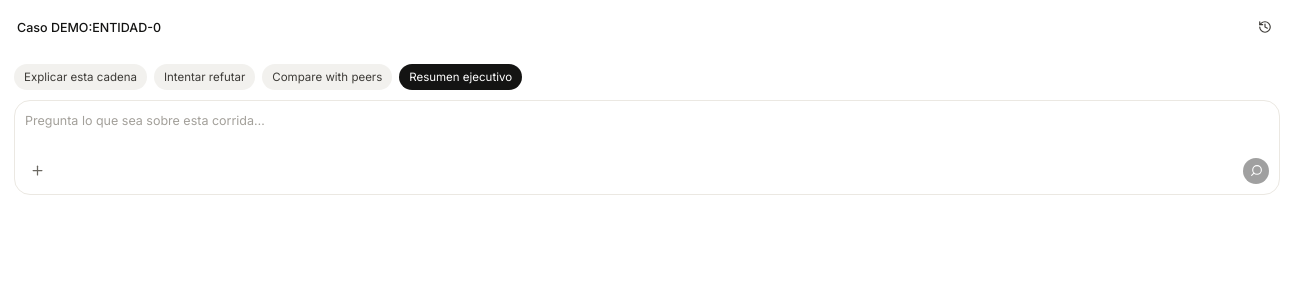
CasoChat › manda la pregunta al BFF y no fabrica ninguna respuesta de análisis
This screenshot has width=1292, height=298.
Type "¿por qué subió el monto?" into the text box with placeholder "Pregunta lo que sea sobre esta corrida…" at (647, 131), box [25,111,1269,152]
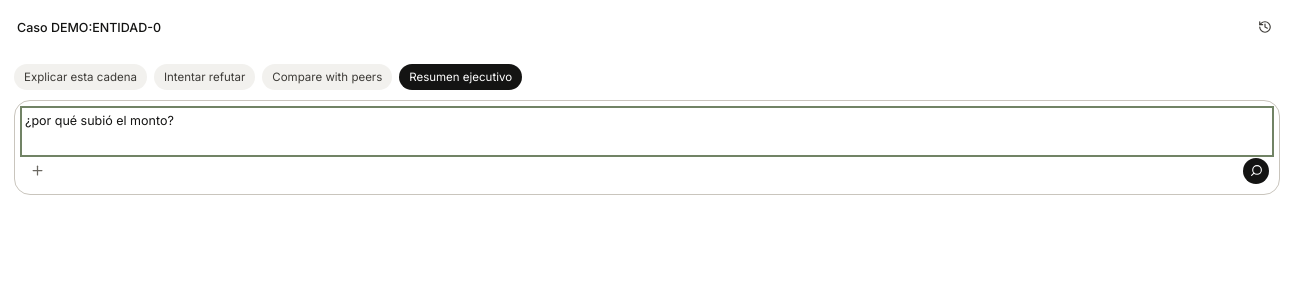
Click the button named "Enviar seguimiento" at (1256, 171), box [1243,158,1269,184]
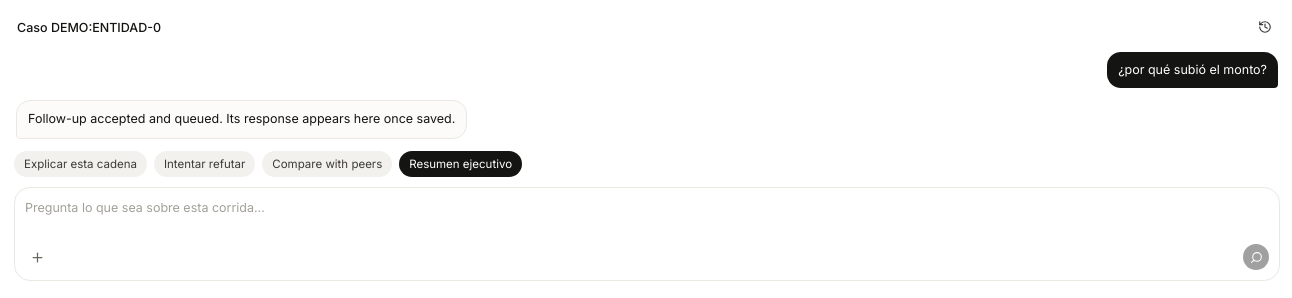
Expected: the text "¿por qué subió el monto?" is shown, [1107,52,1278,88]
Expected: the text "accepted and queued" is shown, [28,111,455,126]
